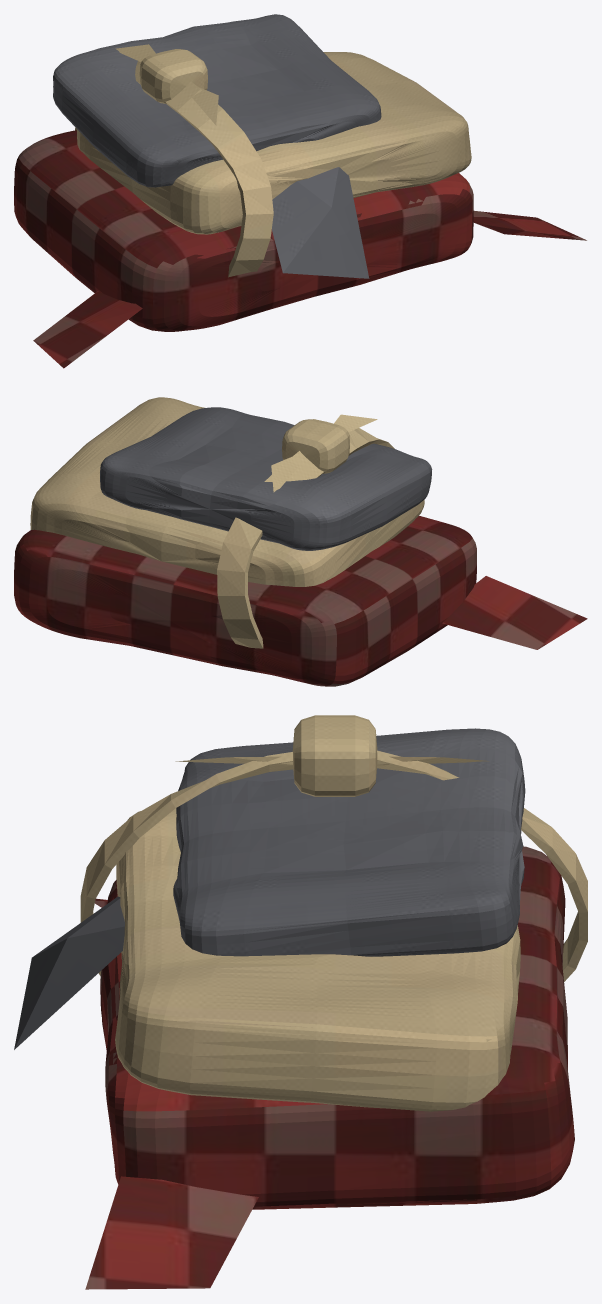
The model's file is trapos.glb.
3 renders of one model, top to bottom at view 1: azimuth 30°, elevation 25°; view 2: azimuth 150°, elevation 25°; view 3: azimuth 270°, elevation 25°, orthographic. The views are drawn at different scales.
Parts seen in each view (by area): view 1: trapos_trapo_xadrez, trapos_trapo_cinza, trapos_trapo_bege; view 2: trapos_trapo_xadrez, trapos_trapo_cinza, trapos_trapo_bege; view 3: trapos_trapo_bege, trapos_trapo_xadrez, trapos_trapo_cinza.
Part boxes in pixels (bbox=[...]): trapos_trapo_xadrez: bbox=[14, 130, 586, 368]; trapos_trapo_cinza: bbox=[53, 14, 381, 278]; trapos_trapo_bege: bbox=[75, 44, 471, 277]; trapos_trapo_xadrez: bbox=[14, 515, 587, 686]; trapos_trapo_cinza: bbox=[100, 407, 432, 550]; trapos_trapo_bege: bbox=[30, 397, 424, 648]; trapos_trapo_bege: bbox=[80, 715, 587, 1111]; trapos_trapo_xadrez: bbox=[85, 846, 574, 1289]; trapos_trapo_cinza: bbox=[14, 728, 525, 1049].
Size of the model in its own units: 0.26 by 0.108 by 0.1609.
3 materials, 3 textured.
